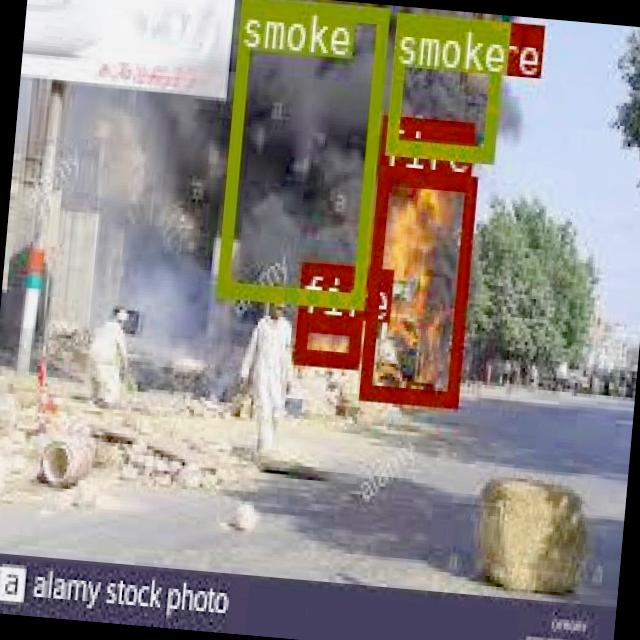fire: (358, 167, 474, 403), (292, 312, 360, 363), (447, 16, 500, 61)
smoke: (213, 0, 386, 305), (385, 11, 502, 160)
